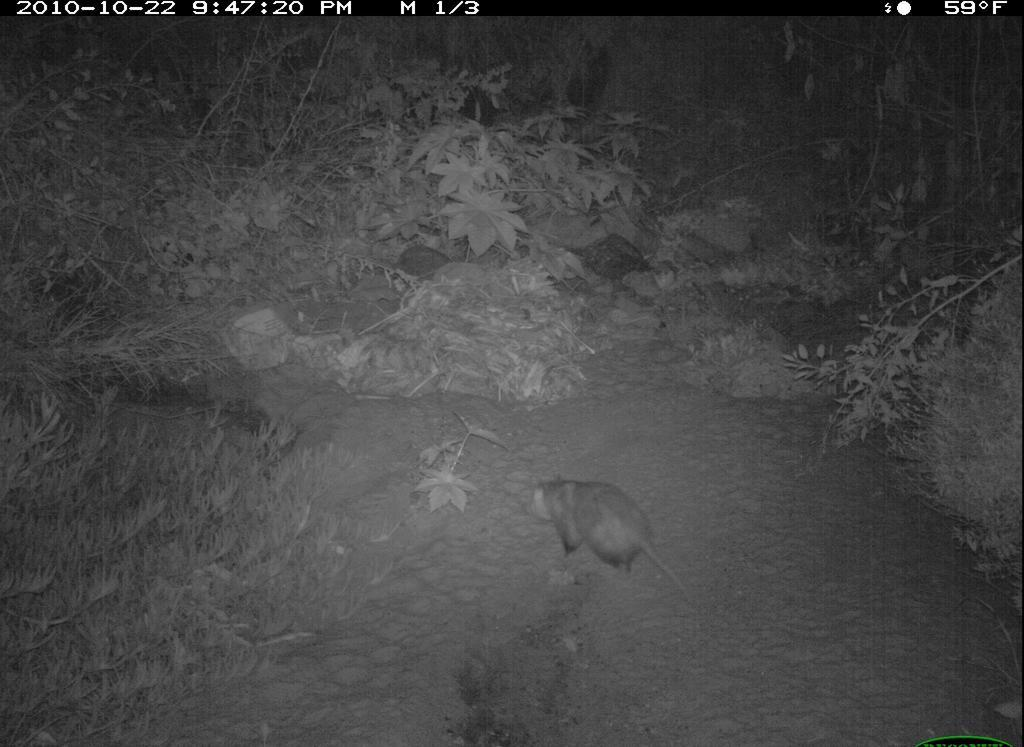opossum: (528, 469, 701, 617)
